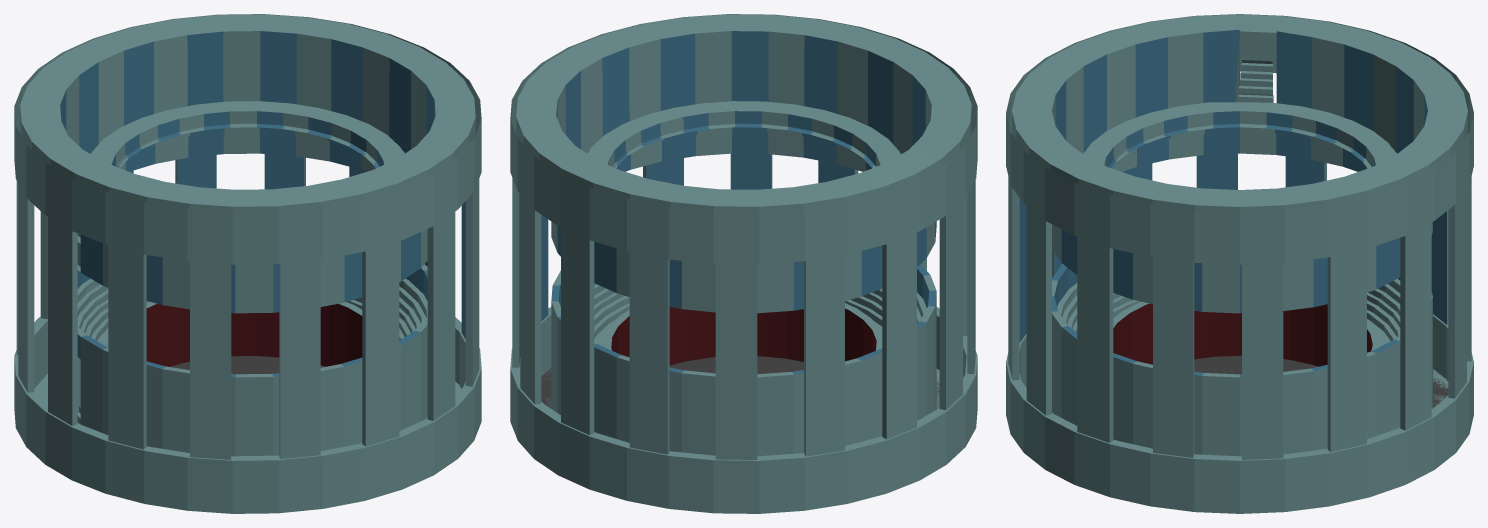
Rendered from Arena 2.fbx.
3 renders of one model, left to right at view 1: azimuth 30°, elevation 25°; view 2: azimuth 150°, elevation 25°; view 3: azimuth 270°, elevation 25°, orthographic.
Parts seen in each view (by area): view 1: Cylinder.001; view 2: Cylinder.001; view 3: Cylinder.001.
Part boxes in pixels (bbox=[...]): Cylinder.001: bbox=[14, 14, 481, 513]; Cylinder.001: bbox=[510, 14, 977, 513]; Cylinder.001: bbox=[1006, 14, 1473, 513].
Bounding box in the file's own units: 8000 × 5809 × 8000.
